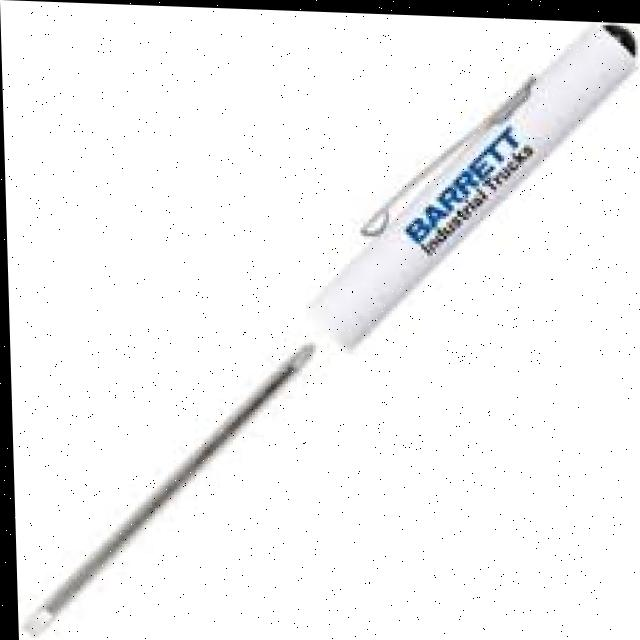Screwdriver: (25, 20, 639, 634)
